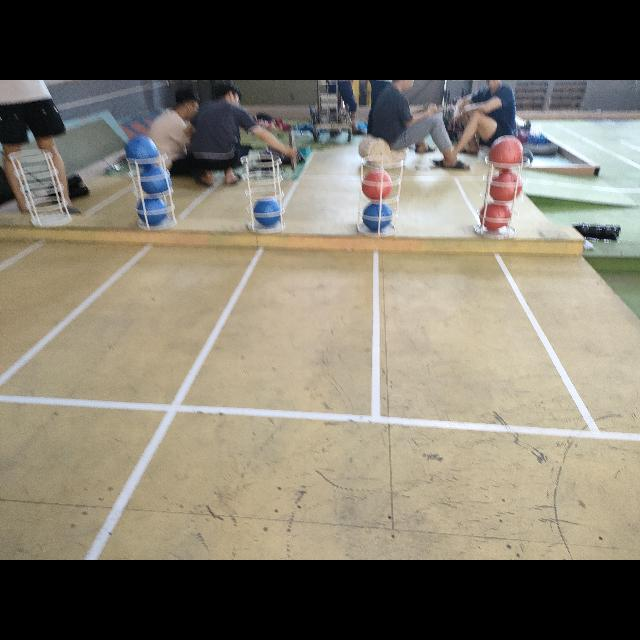B: (125, 135, 158, 169), (140, 168, 172, 198), (365, 202, 391, 232), (255, 200, 282, 228), (139, 199, 165, 227)
R: (490, 136, 526, 172), (490, 172, 524, 204), (481, 200, 512, 230), (364, 171, 391, 201)
